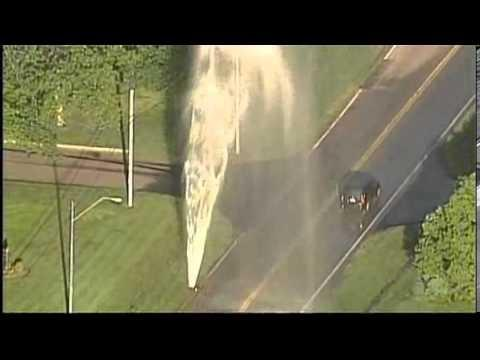pipe burst: (182, 46, 299, 291)
